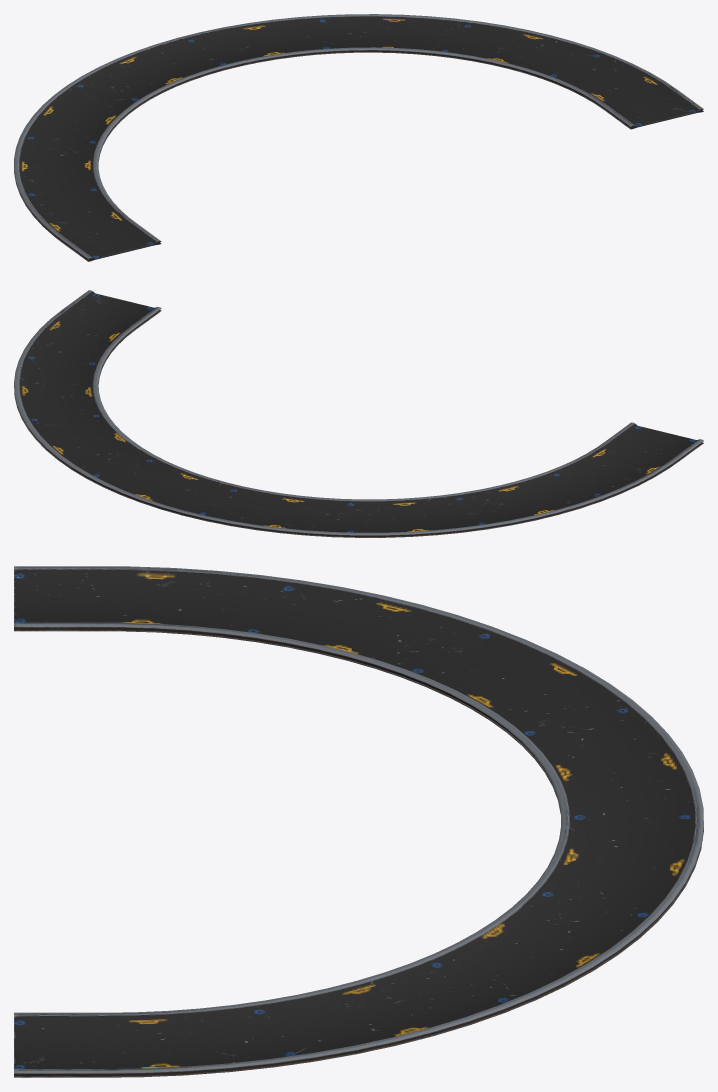
Rendered from SM_Road_2.fbx.
3 views of the same model, one above another, from view 1: azimuth 30°, elevation 25°; view 2: azimuth 150°, elevation 25°; view 3: azimuth 270°, elevation 25° (orthographic). The views are drawn at different scales.
Visible parts, largest first — view 1: SM_Road_2; view 2: SM_Road_2; view 3: SM_Road_2.
Boxes of the visible parts, x1,y1,x2,y2 form: SM_Road_2: (14, 14, 703, 261); SM_Road_2: (14, 290, 703, 537); SM_Road_2: (14, 566, 703, 1077).
Bounding box in the file's own units: 5720 × 31.13 × 3291.
